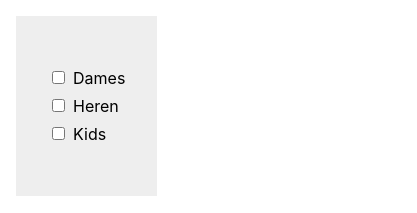
click on clear all should clear all selection
This screenshot has width=417, height=213.
Click the checkbox with test id "chk-box-14100".
click(58, 78)  # box [52,71,65,84]
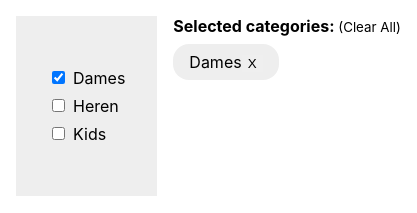
Click the checkbox with test id "chk-box-14126".
click(58, 134)  # box [52,127,65,140]
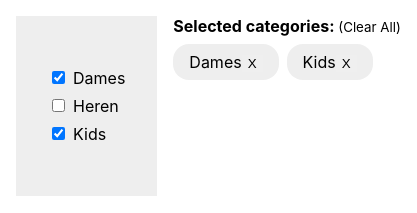
Click the button "(Clear All)".
click(370, 27)  # box [338,19,401,35]
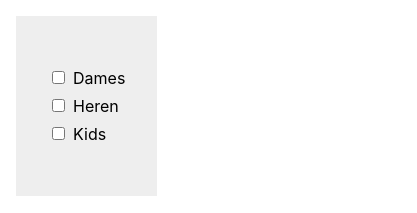
Now the checkbox with test id "chk-box-14100" is not checked, box [52,71,65,84]
Now the checkbox with test id "chk-box-14126" is not checked, box [52,127,65,140]
Now the element with test id "selection" is gone
